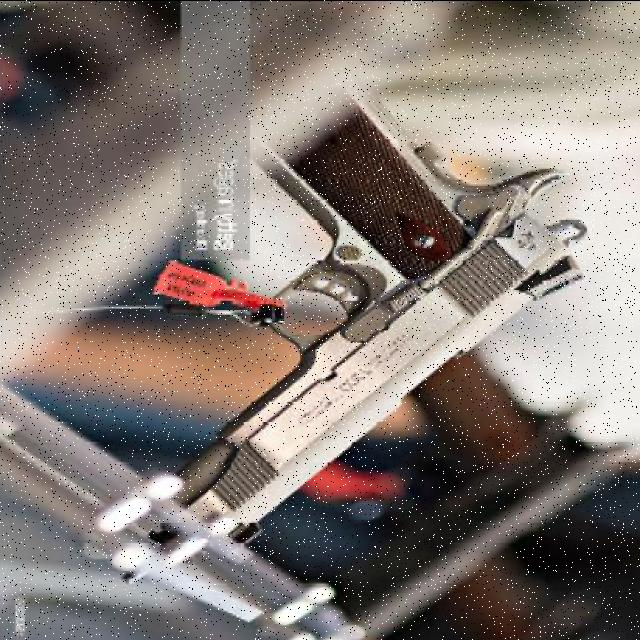Guns: (122, 69, 591, 586)
